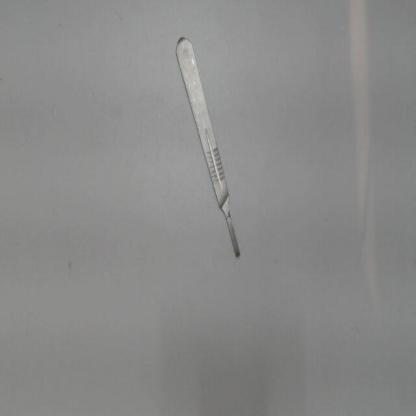No.4 BP Handle: (159, 19, 254, 280)
